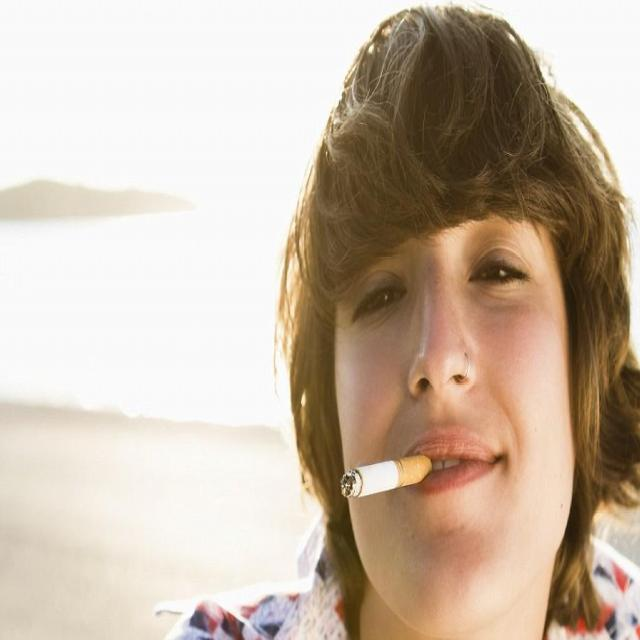Сигарета: (340, 456, 434, 497)
Тело: (179, 10, 640, 640)
